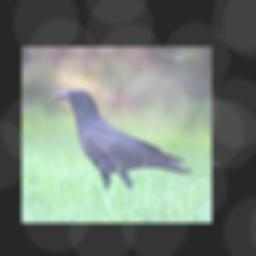Crow: (53, 88, 195, 200)
